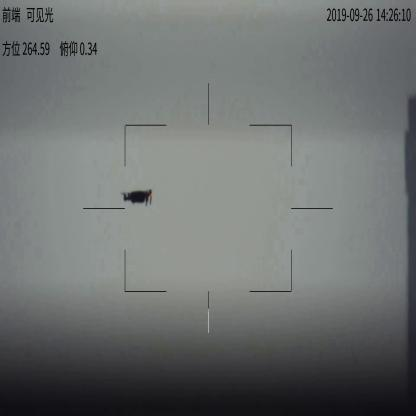uav: (119, 188, 157, 206)
